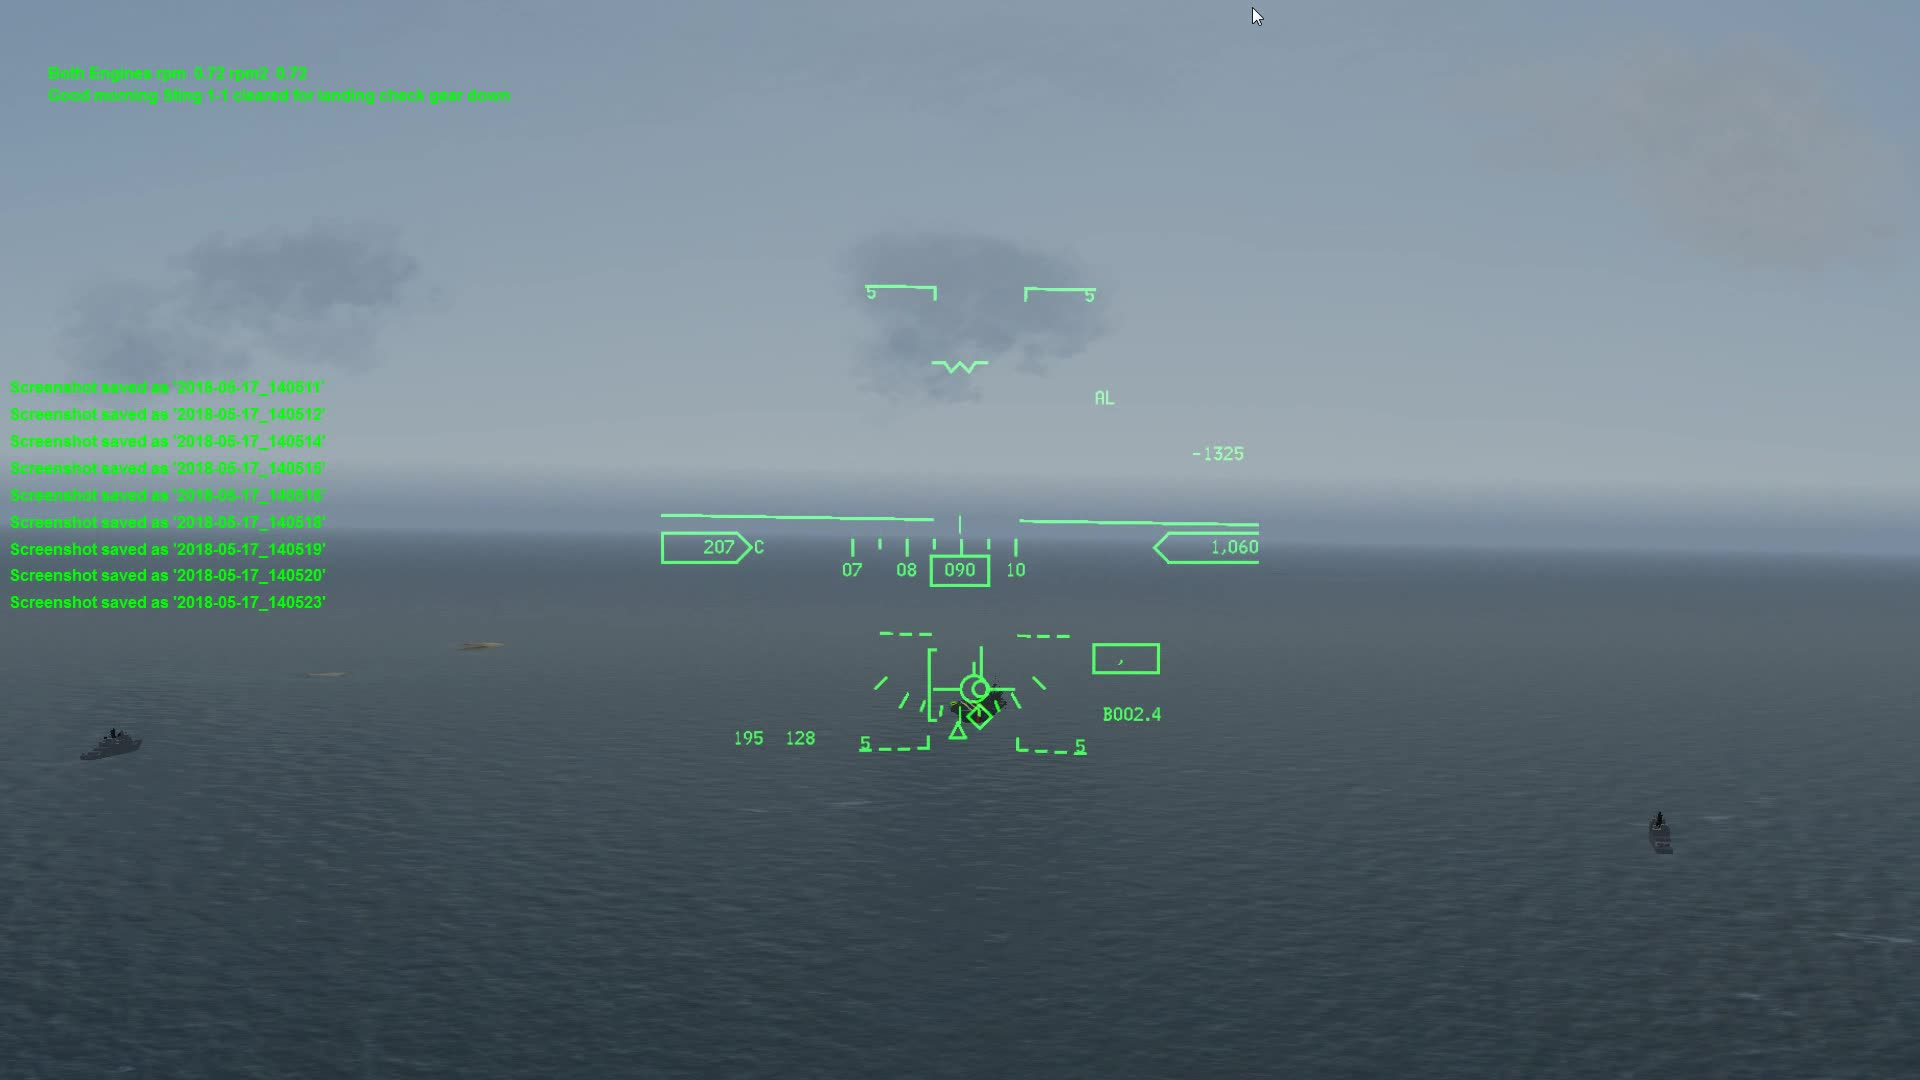speed vector: (924, 644, 1025, 709)
